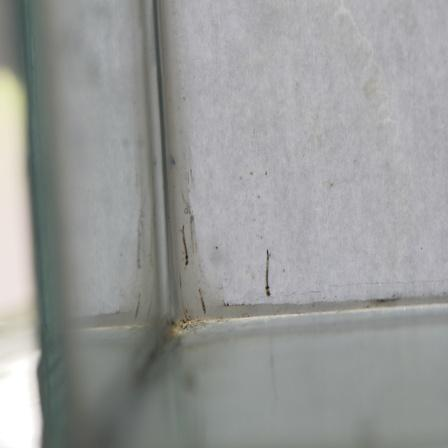Jentik-Nyamuk: (175, 220, 192, 272), (260, 246, 274, 298)
